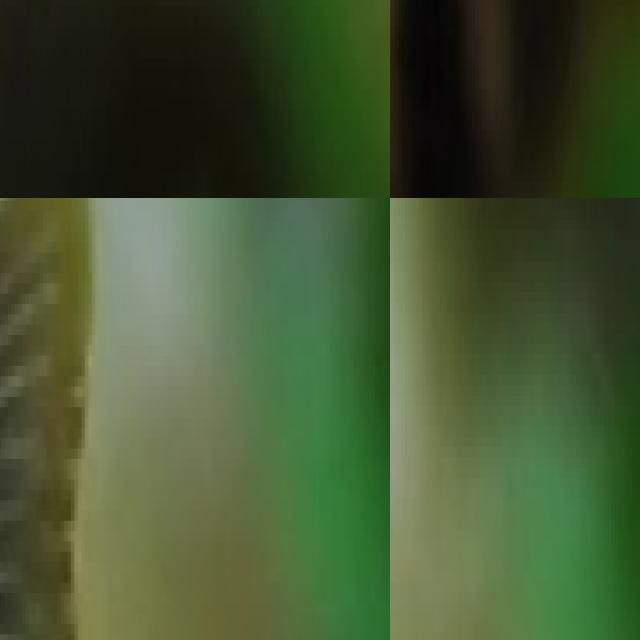fish: (0, 0, 390, 198), (0, 198, 130, 640)
